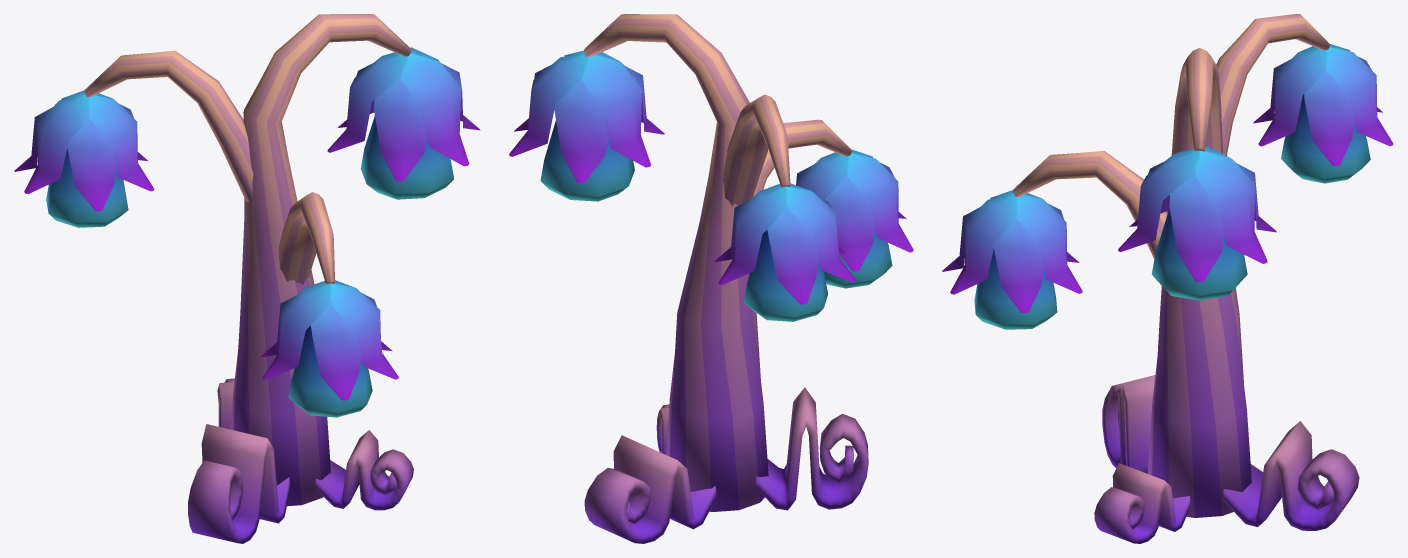
File: anp_PlantFlower_7.fbx
The picture shows the model from 3 angles, left to right: view 1: azimuth 30°, elevation 25°; view 2: azimuth 150°, elevation 25°; view 3: azimuth 270°, elevation 25°; orthographic projection.
Visible parts, largest first — view 1: pf7; view 2: pf7; view 3: pf7.
Boxes of the visible parts, box(x1,y1,x2,y2) form: pf7: box(14, 14, 480, 543); pf7: box(509, 14, 913, 543); pf7: box(942, 14, 1393, 543).
Bounding box in the file's own units: 72.05 × 81.58 × 69.82.
